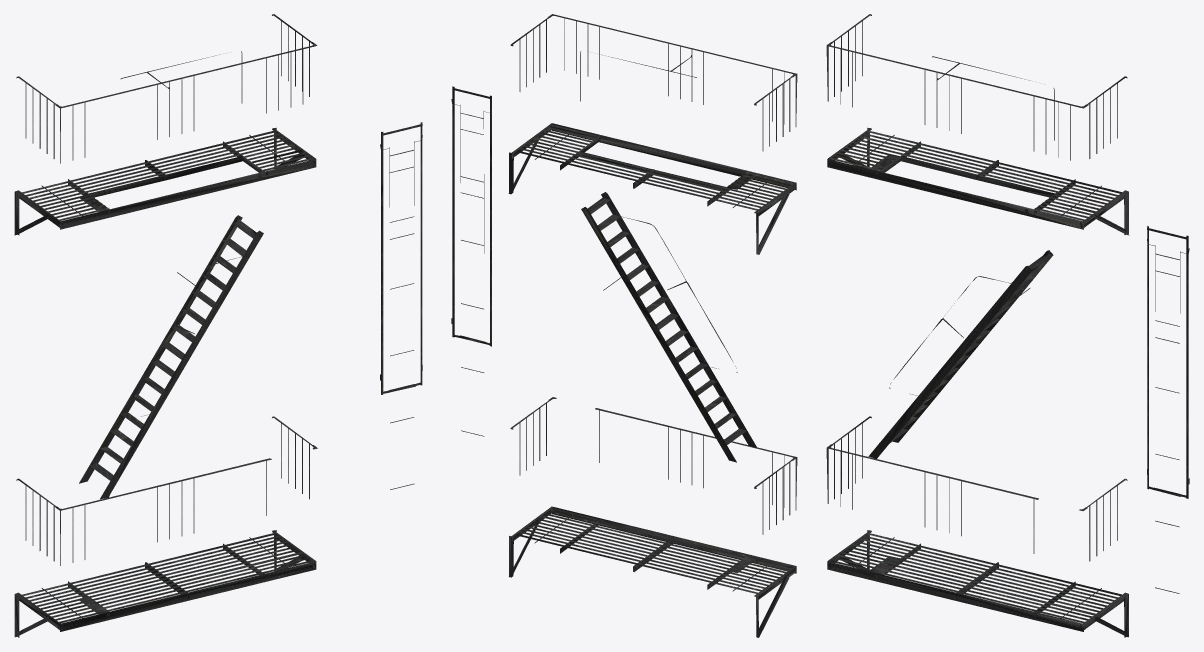
Rendered from modular_fire_escape.glb.
3 renders of one model, left to right at view 1: azimuth 30°, elevation 25°; view 2: azimuth 150°, elevation 25°; view 3: azimuth 330°, elevation 25°, orthographic. The views are drawn at different scales.
Parts seen in each view (by area): view 1: modular_fire_escape; view 2: modular_fire_escape; view 3: modular_fire_escape.
Part boxes in pixels (bbox=[...]): modular_fire_escape: bbox=[14, 14, 422, 637]; modular_fire_escape: bbox=[451, 14, 797, 637]; modular_fire_escape: bbox=[826, 14, 1189, 637].
Size of the model in its own units: 6.65 by 9.75 by 1.4.
Materials: 1 (1 with a texture image).
